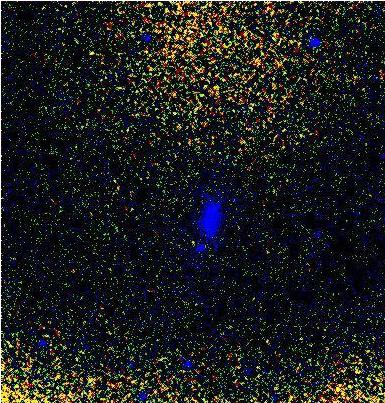star: (75, 46, 105, 76)
